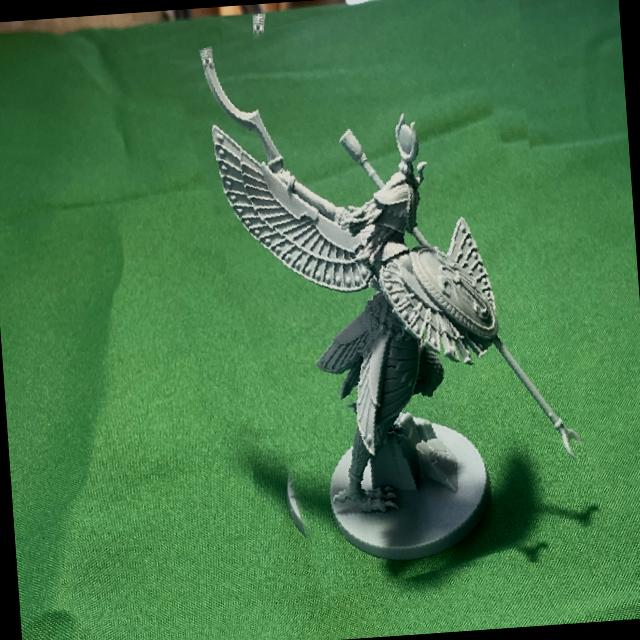isis: (192, 0, 586, 594)
